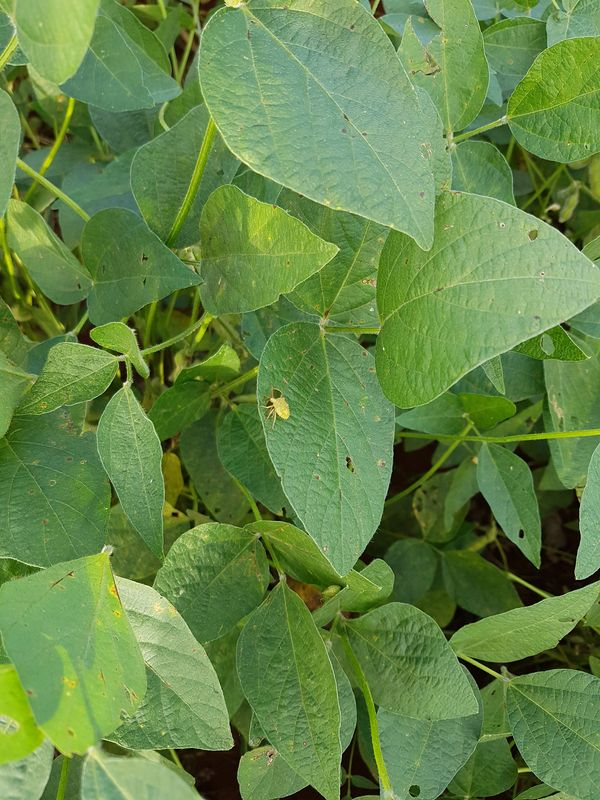Euschistus_heros_ninfa: (257, 390, 298, 434)
